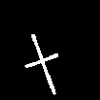single_crochet: (25, 34, 57, 93)
